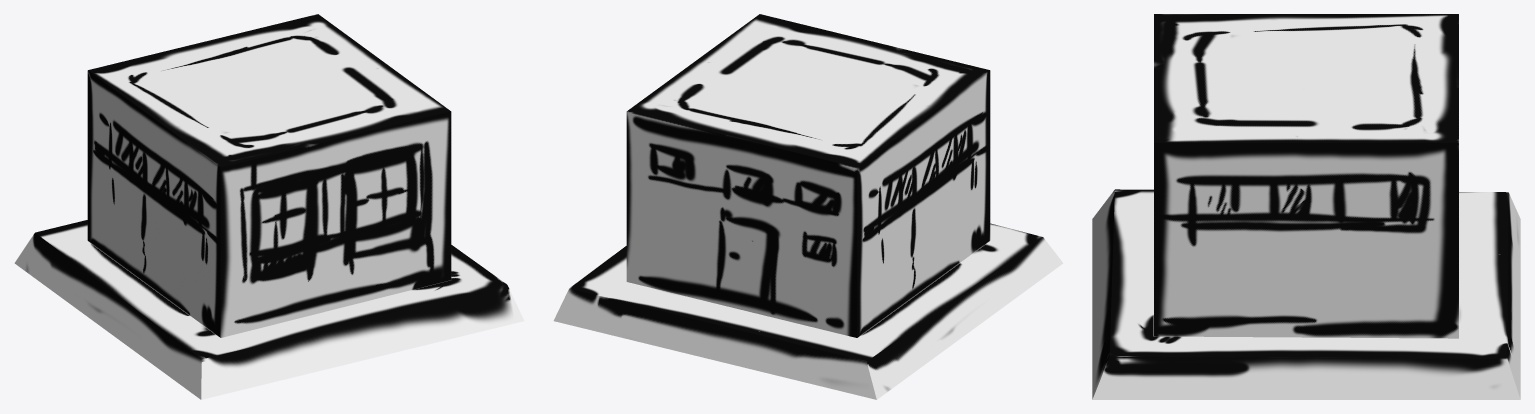
Rendered from Haus zusammen.fbx.
3 views of the same model, side by side, from view 1: azimuth 30°, elevation 25°; view 2: azimuth 150°, elevation 25°; view 3: azimuth 270°, elevation 25° (orthographic). The views are drawn at different scales.
Parts seen in each view (by area): view 1: Cube, Cube.002; view 2: Cube, Cube.002; view 3: Cube, Cube.002.
Boxes of the visible parts, bbox=[...] form: Cube: bbox=[87, 14, 451, 337]; Cube.002: bbox=[14, 220, 524, 399]; Cube: bbox=[626, 14, 990, 337]; Cube.002: bbox=[553, 223, 1063, 399]; Cube: bbox=[1154, 14, 1458, 338]; Cube.002: bbox=[1092, 189, 1520, 399].
Size of the model in its own units: 281 by 167 by 281.
